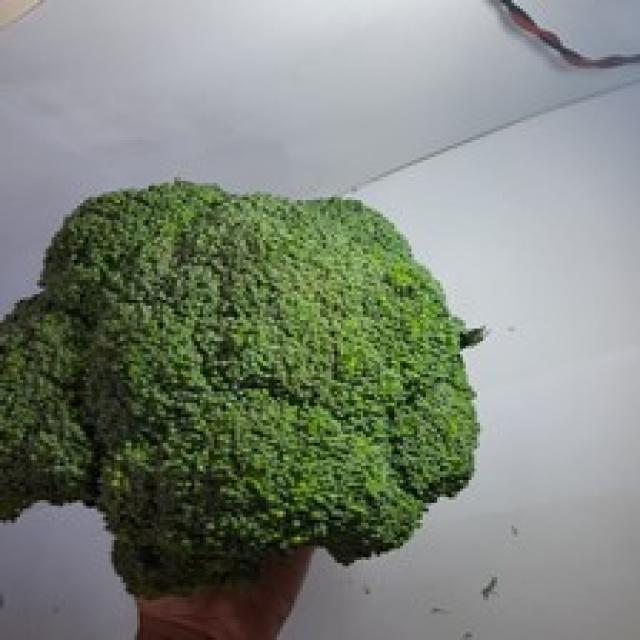Broccoli: (0, 181, 479, 594)
